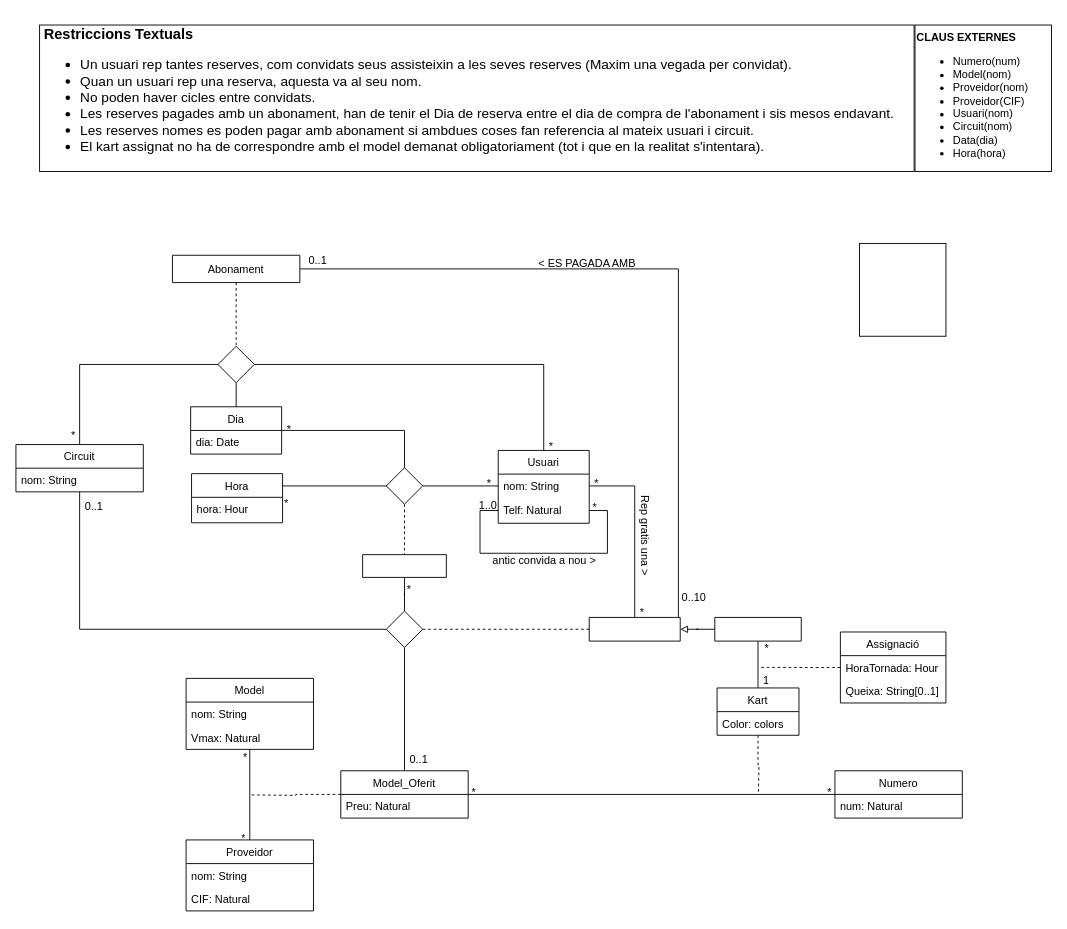
Some shapes in this 1067 by 929 pixel diagram are drawn without their labels. The shapes that lost their labels are listed below. From the top down, each one's centre as x and y in pixels, then its label:
the point at 902,289: «enum» colors - Blau - Verd - Vermell
the point at 404,565: UsuariDiaHora
the point at 634,629: Reserva
the point at 757,629: Assistida
